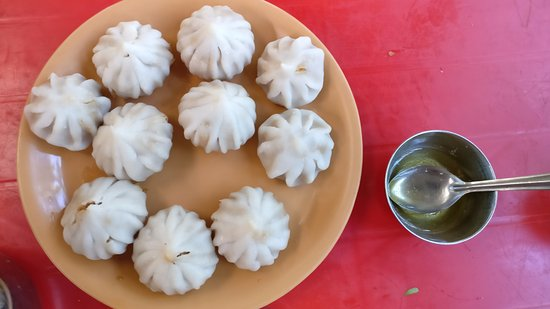modak: (213, 188, 298, 280), (62, 175, 144, 265), (84, 22, 181, 97), (34, 77, 120, 157), (101, 105, 181, 182), (265, 112, 339, 193), (139, 211, 211, 294), (263, 36, 333, 112), (180, 88, 261, 152), (183, 9, 257, 76)
